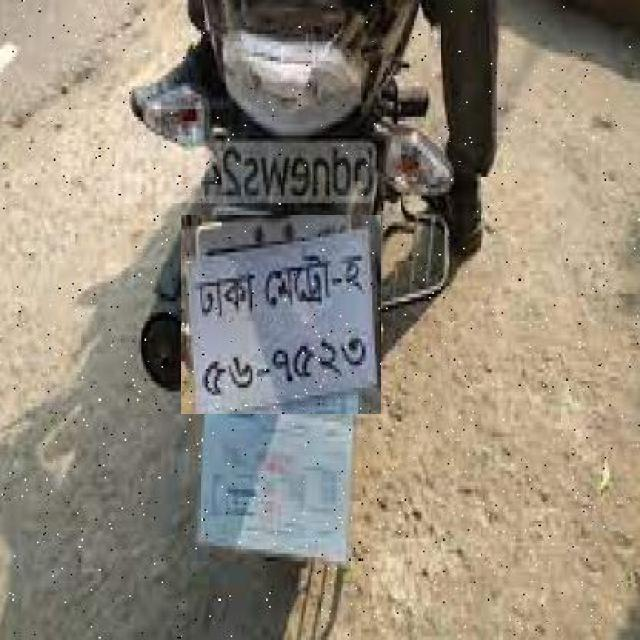numberplate: (182, 215, 382, 414)
